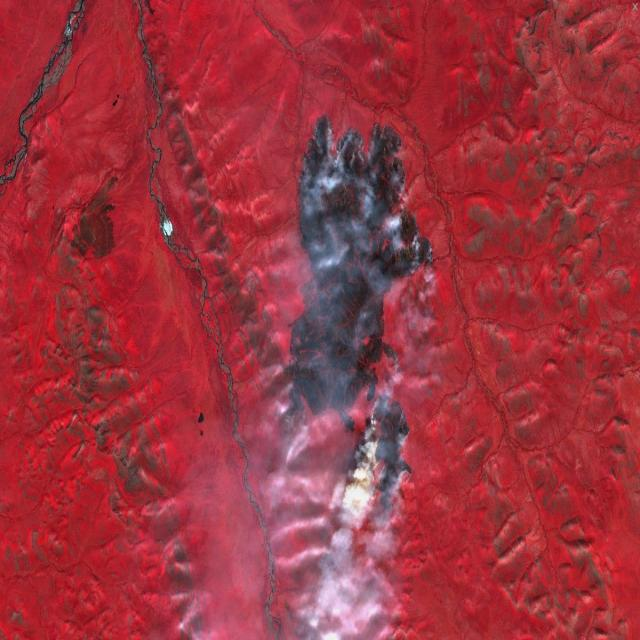fire: (278, 103, 436, 510)
